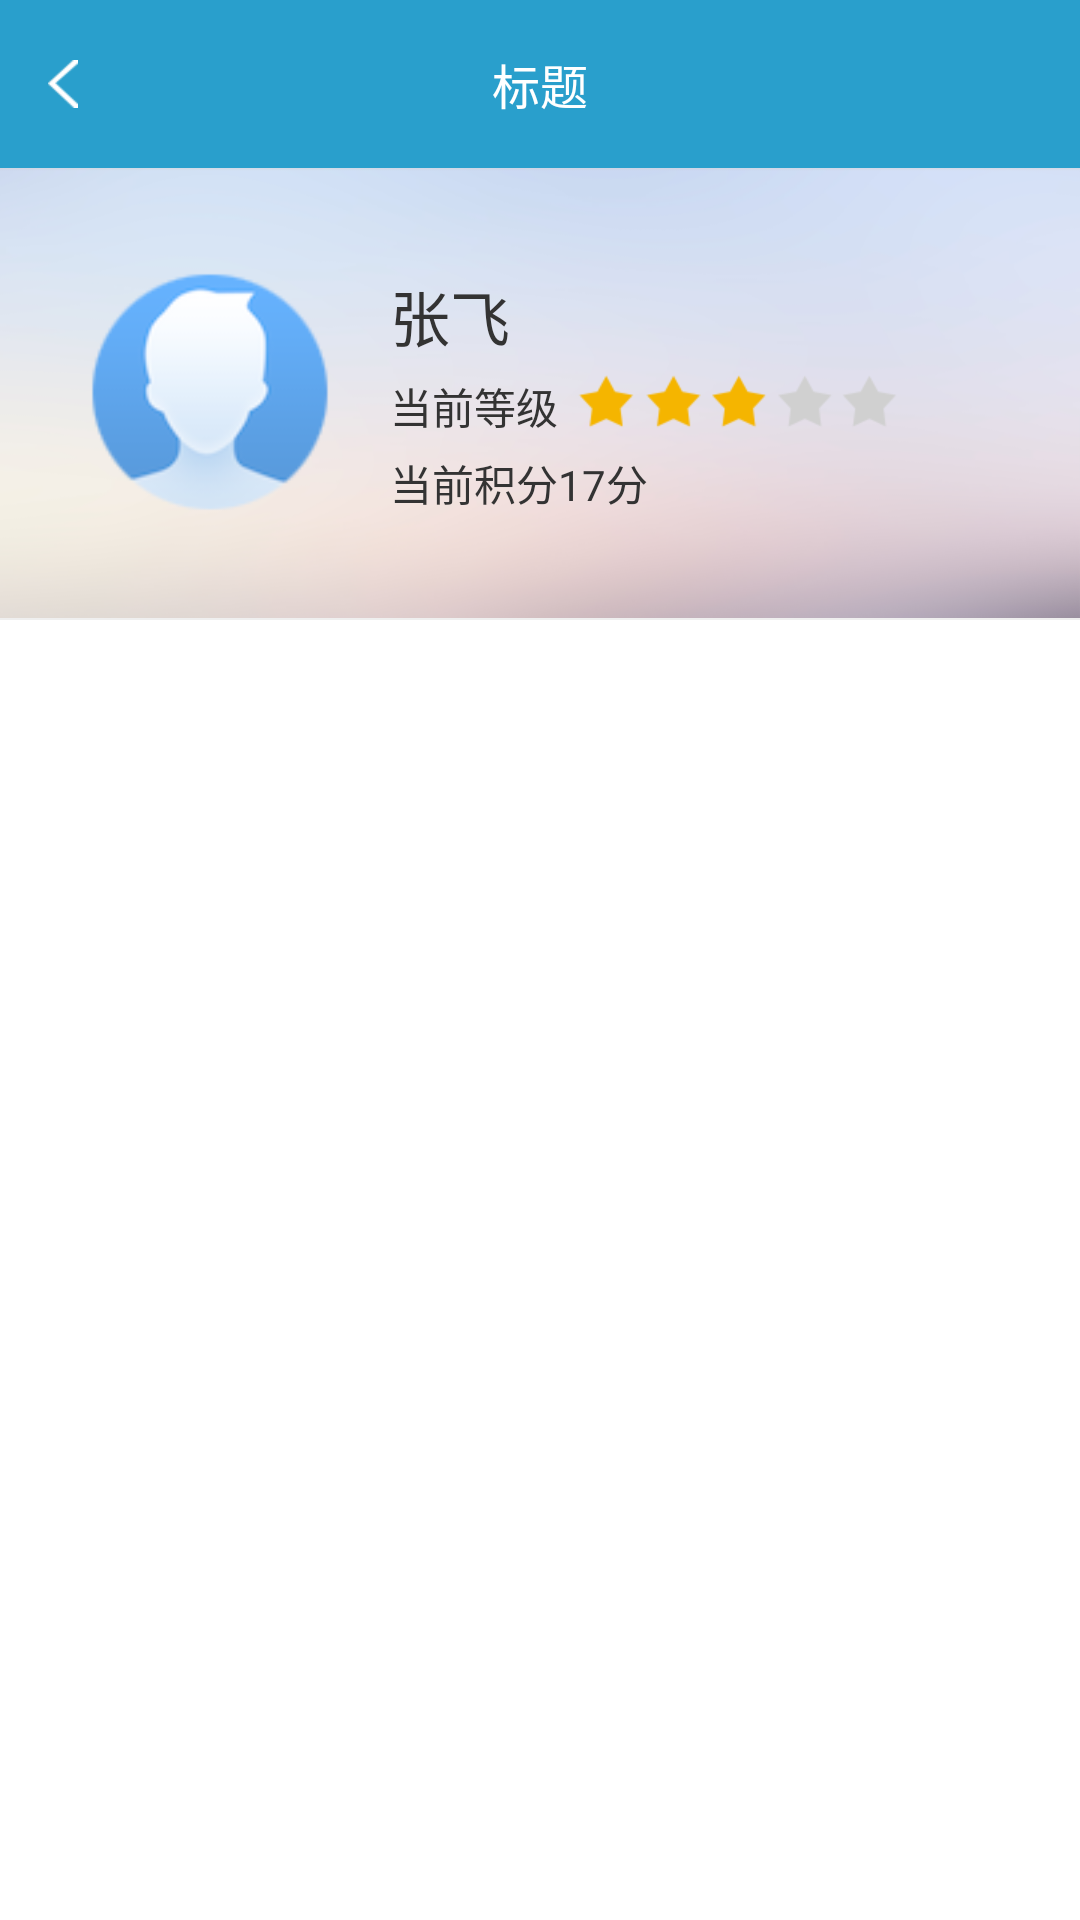

Icons on this 1080 x 1920 Android screen, each with its box as region(x1, y1, x2, y2):
arrow: region(48, 60, 78, 108)
